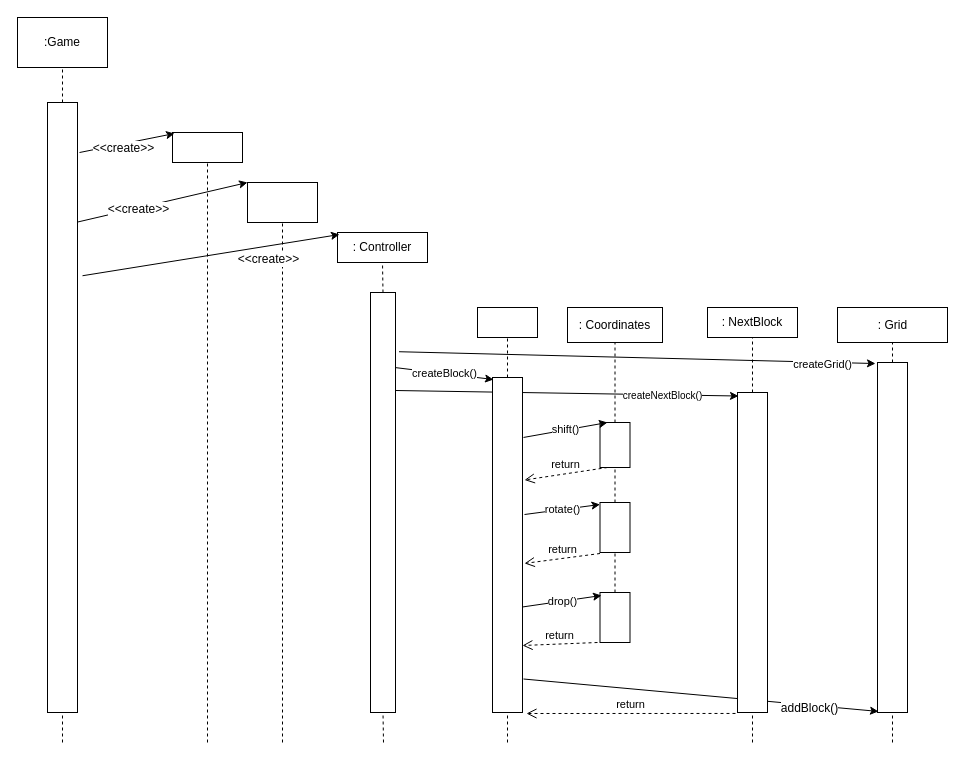
The diagram is 965 pixels wide and 761 high, and some of its shapes have lost their labels. Here are the shapes that lost their labels. From the top down, the box of each, then its label:
(172, 132, 242, 162): : View
(246, 182, 318, 222): : Model
(476, 306, 538, 338): : Block
